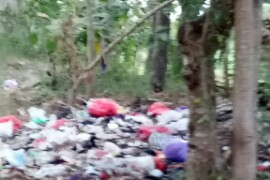trash: (2, 91, 194, 178)
